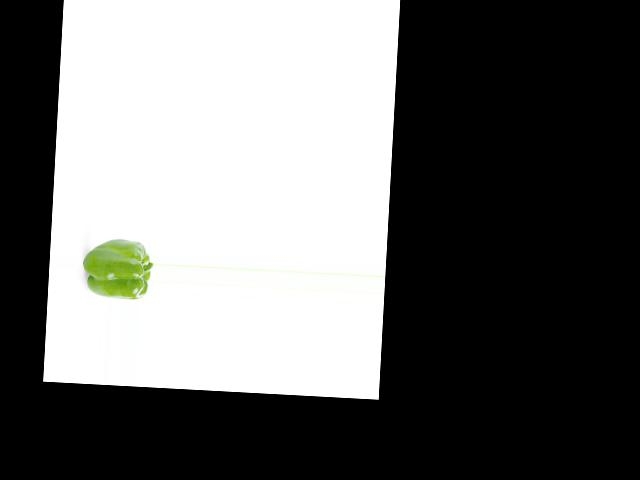bell_pepper: (83, 236, 153, 301)
